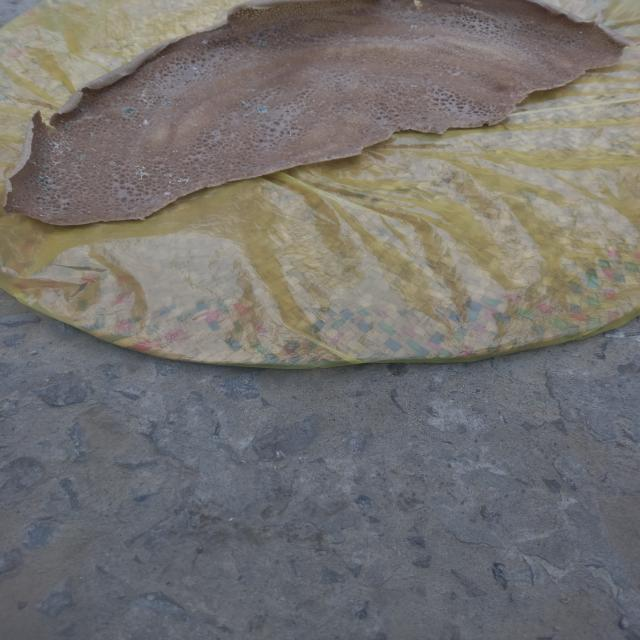injera_mold: (48, 140, 74, 156), (163, 174, 192, 184), (133, 164, 151, 180), (137, 90, 151, 102), (60, 124, 72, 133), (75, 154, 87, 162), (38, 176, 50, 183), (123, 108, 136, 114), (38, 152, 48, 158), (241, 100, 251, 106), (258, 106, 268, 112), (43, 165, 51, 172), (258, 40, 267, 46), (77, 108, 87, 113), (201, 39, 209, 45), (162, 192, 172, 196), (143, 119, 149, 125), (44, 188, 52, 192), (39, 142, 46, 146), (192, 66, 198, 70), (12, 205, 19, 208), (411, 25, 418, 28), (164, 102, 170, 105), (196, 70, 200, 74), (166, 115, 170, 118), (244, 114, 248, 117), (38, 214, 42, 216), (138, 125, 142, 126)
